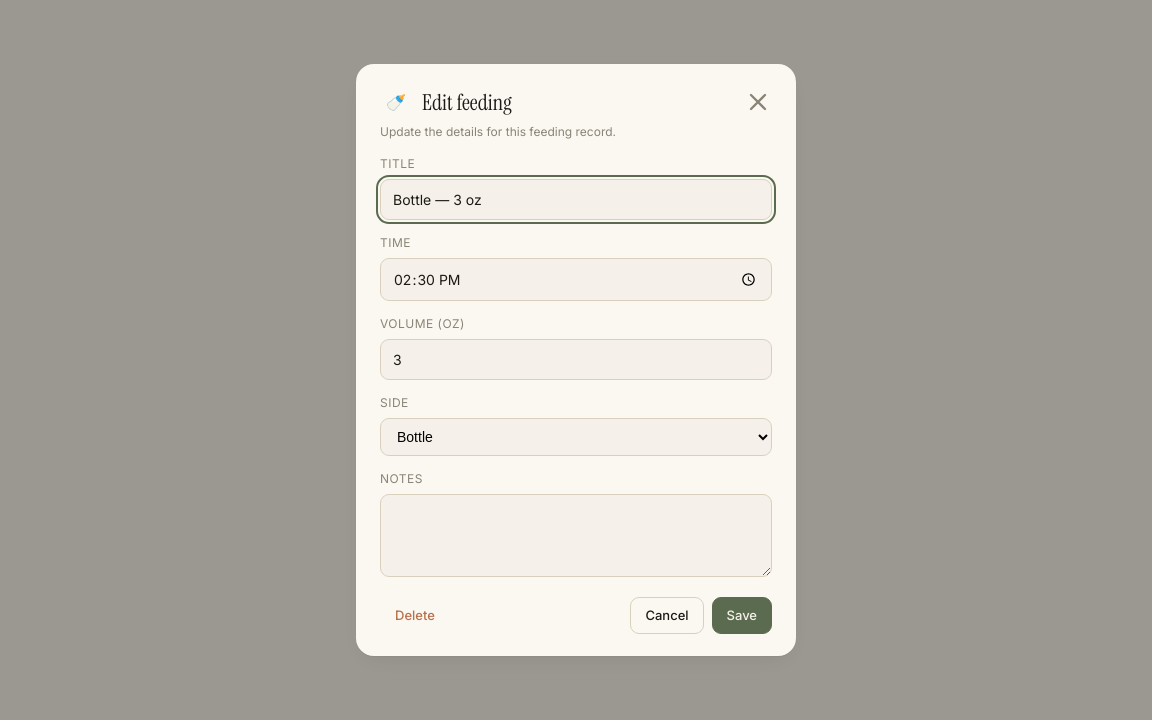
it: RecordModal › requires confirmation and keeps the dialog open when deletion fails
Step 1. Click the button "Delete" → (415, 616), box [380, 597, 450, 634]
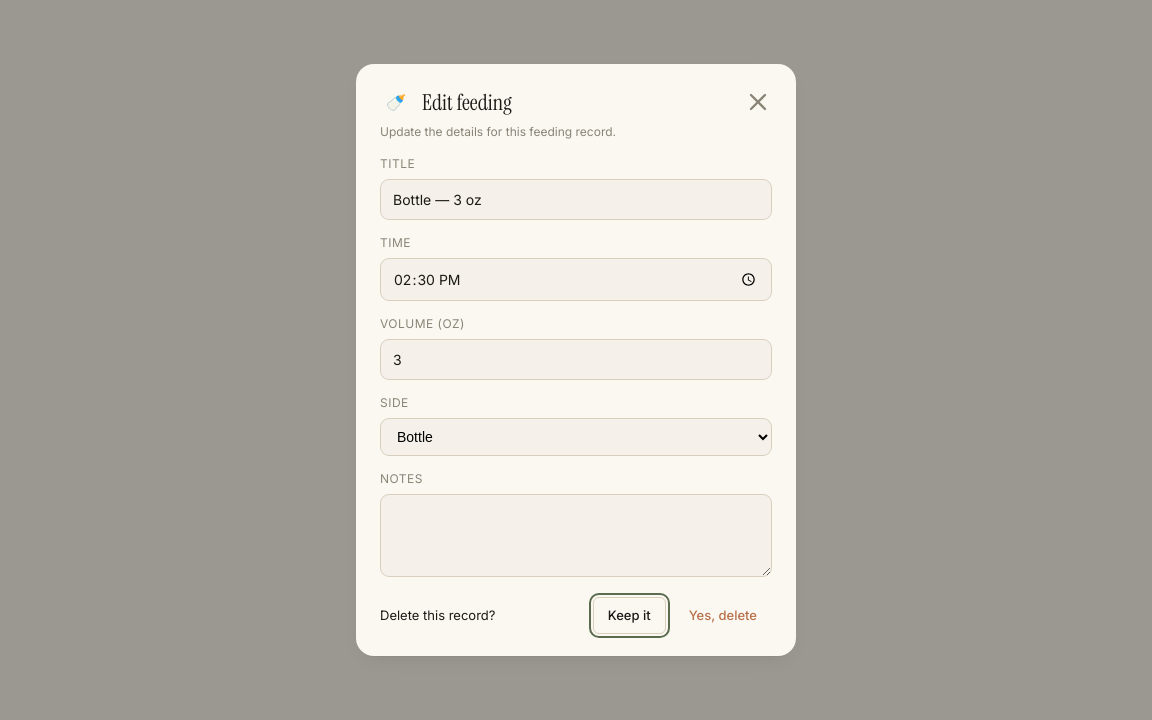
Step 2. Click the button "Yes, delete" → (723, 616), box [674, 597, 772, 634]
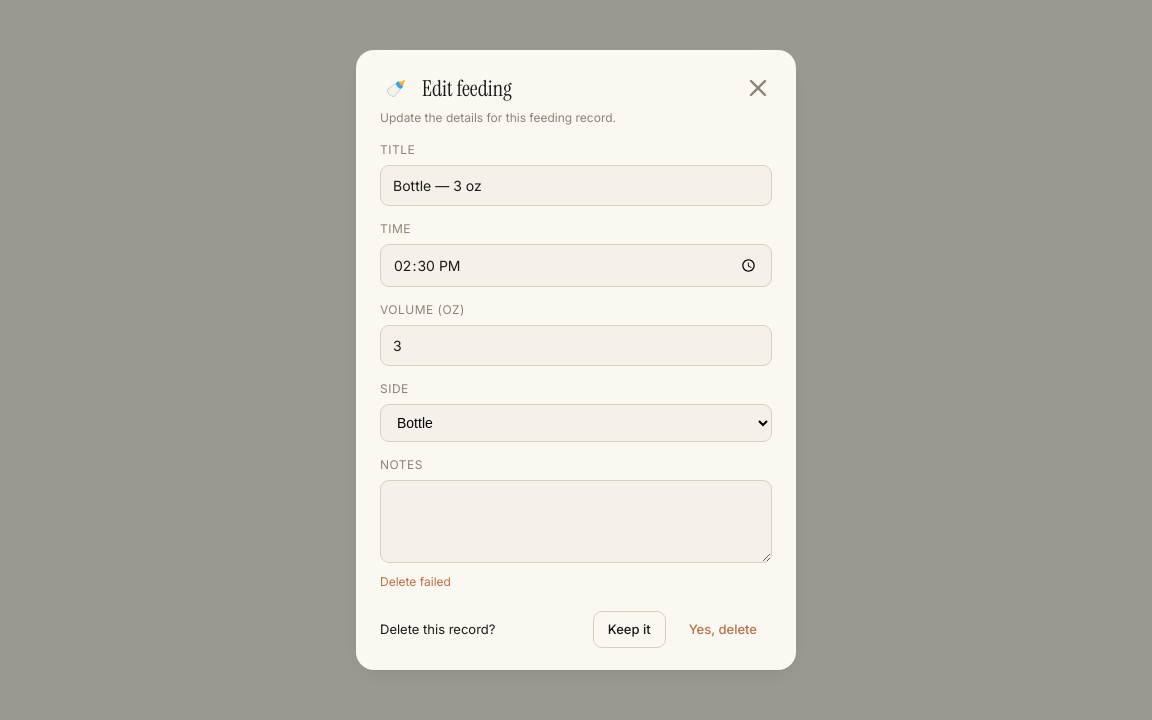
Expected: the message reads "Delete failed", [380, 574, 451, 589]
